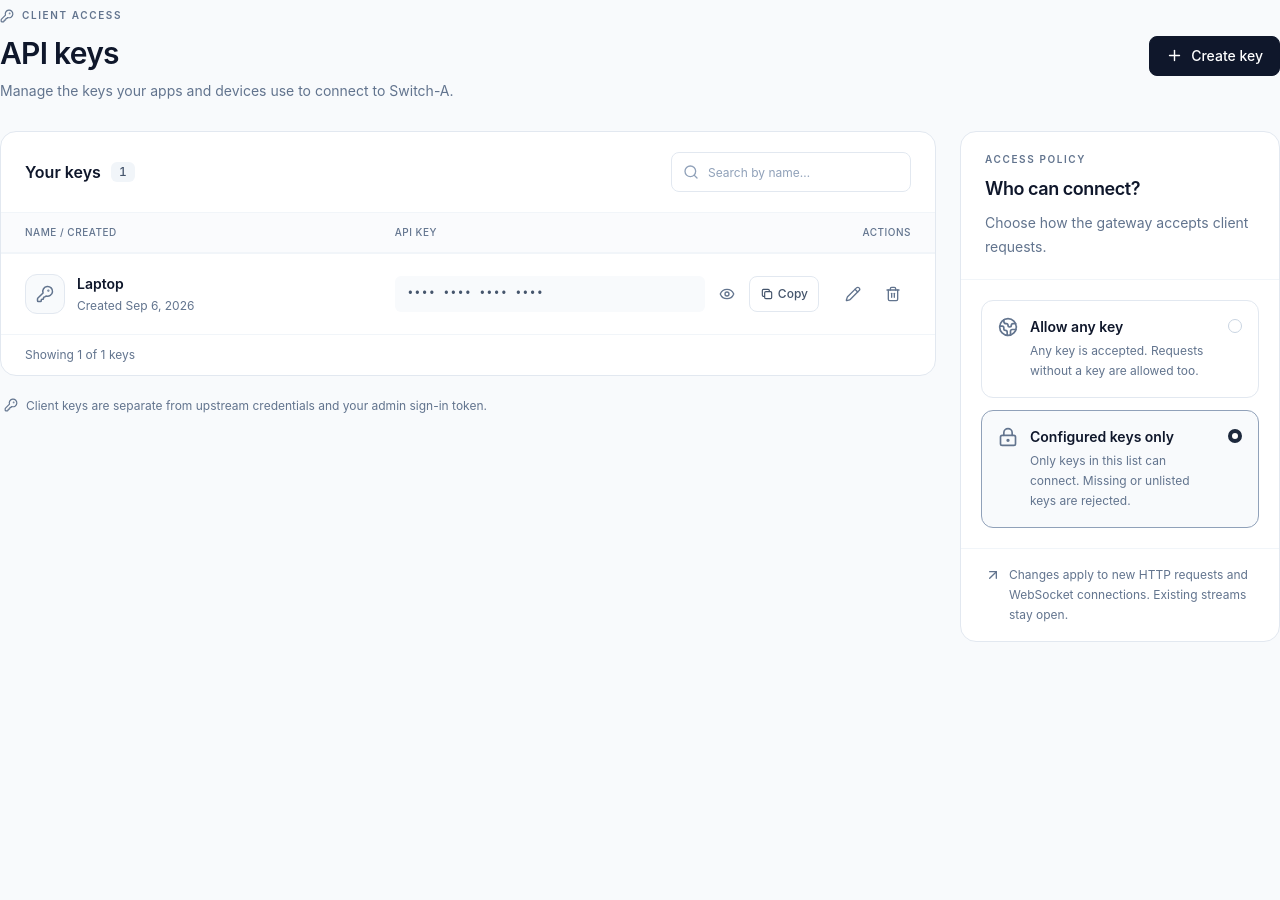
Test: client API key management › keeps deletion failures visible and retryable in the confirmation
Click the button named "Delete Laptop" at (893, 294), box [875,276,911,312]
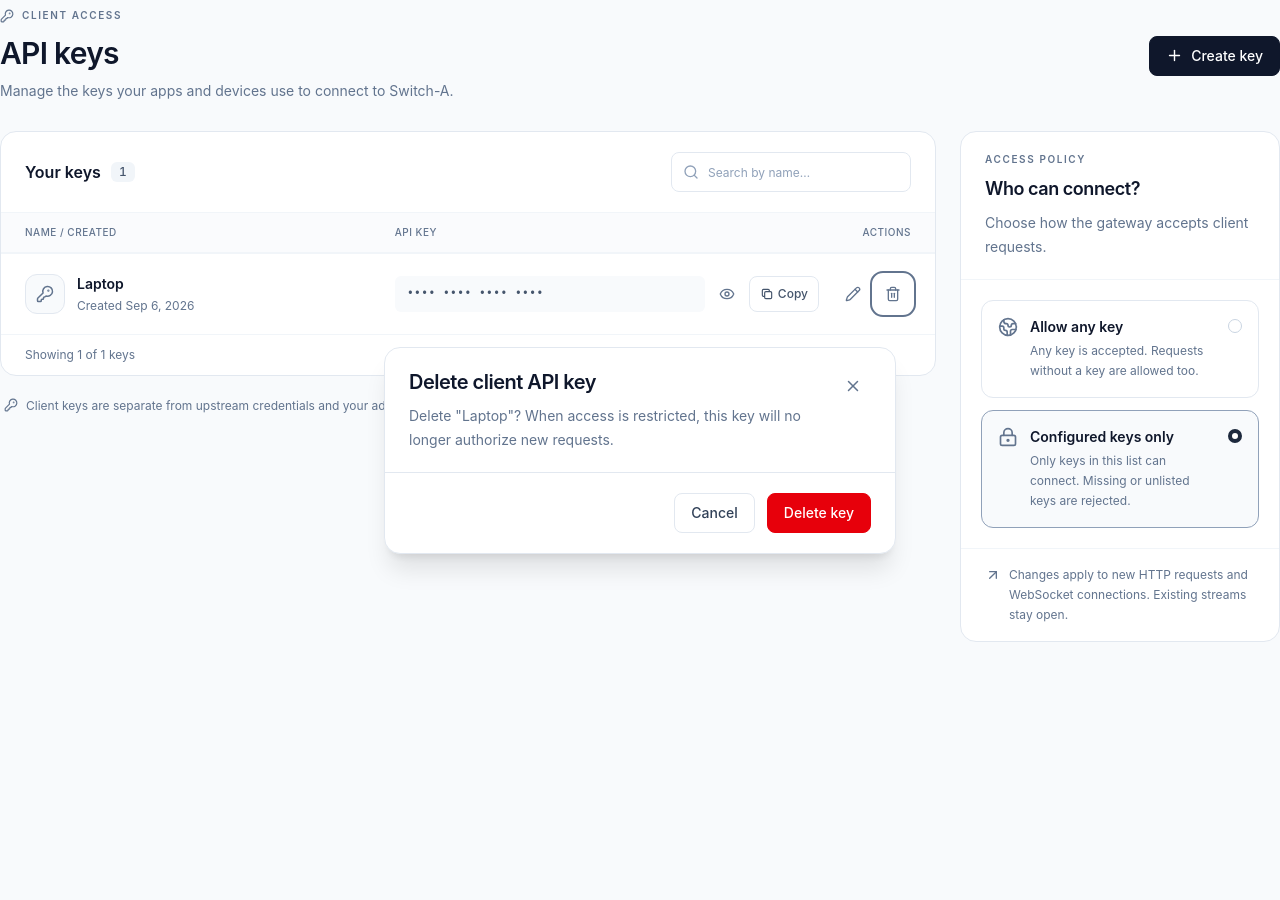
Click the button "Delete key" at (819, 512), box [767,492,871,532]
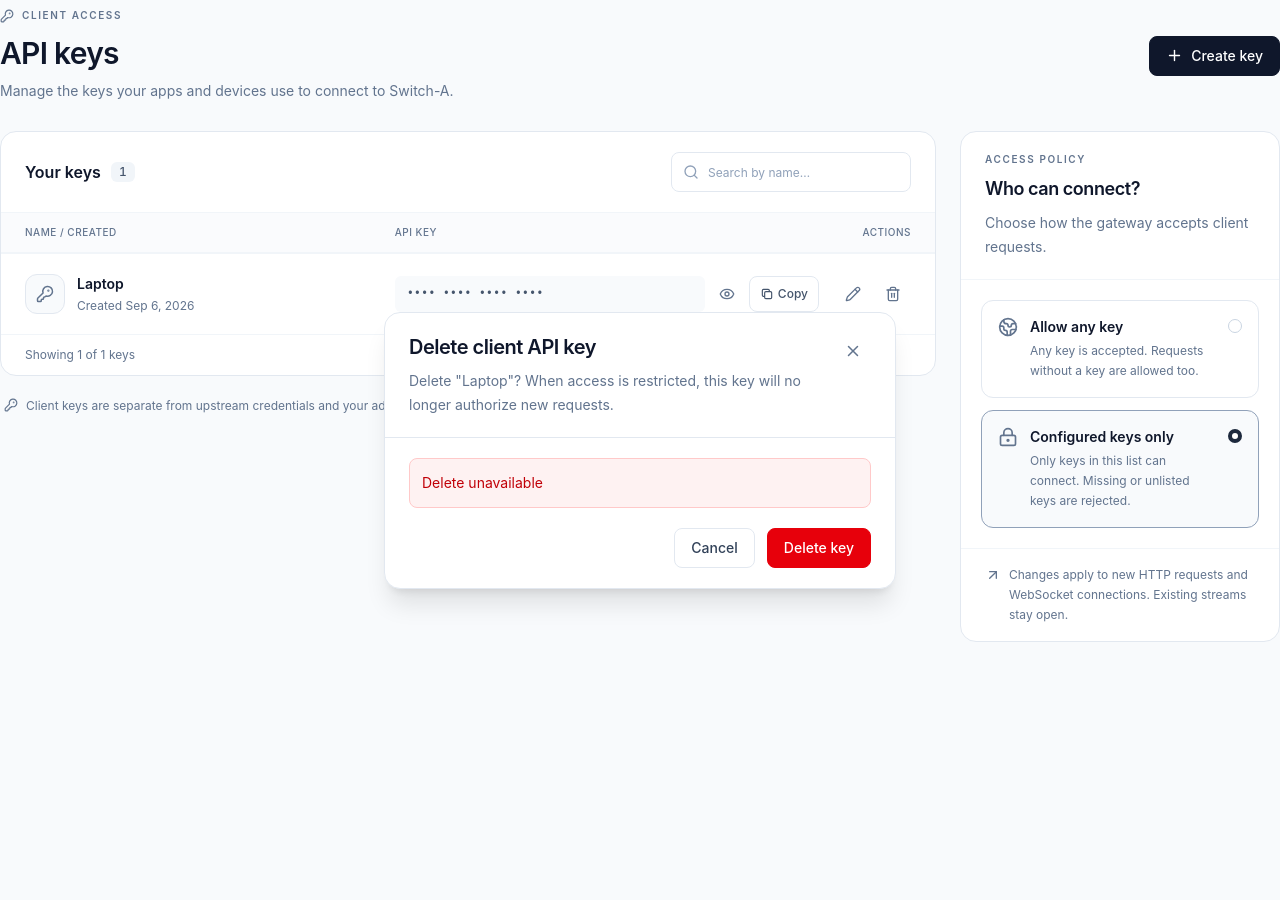
Expected: the heading "Laptop" is shown, [77,275,124,292]
Expected: the dialog "Delete client API key" shows "Delete \"Laptop\"?", [409,372,801,412]
Expected: the message reads "Delete unavailable", [422,474,543,490]
Click the button "Delete key" at (819, 548), box [767,528,871,568]
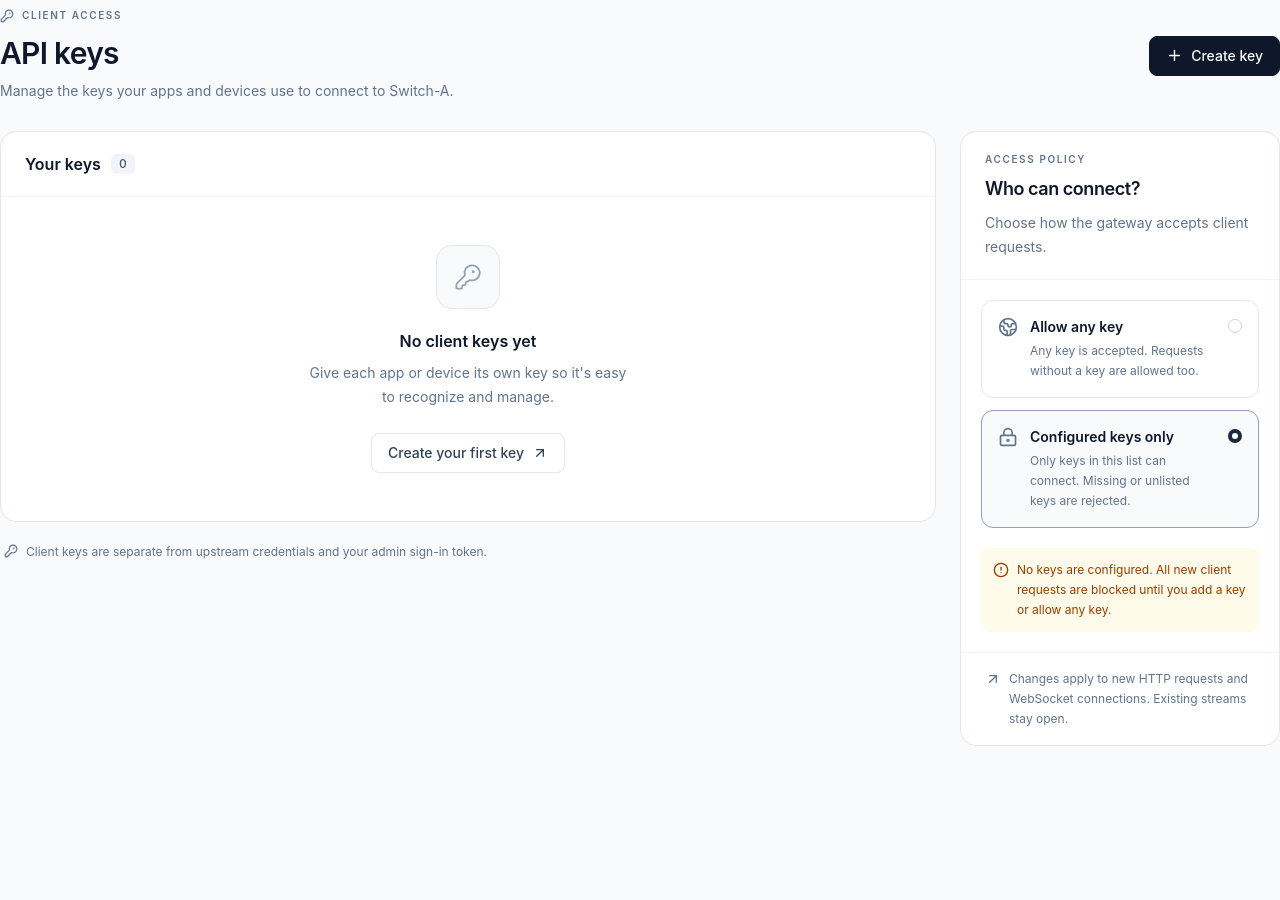
Expected: the heading "No client keys yet" is shown, [400,329,536,353]
